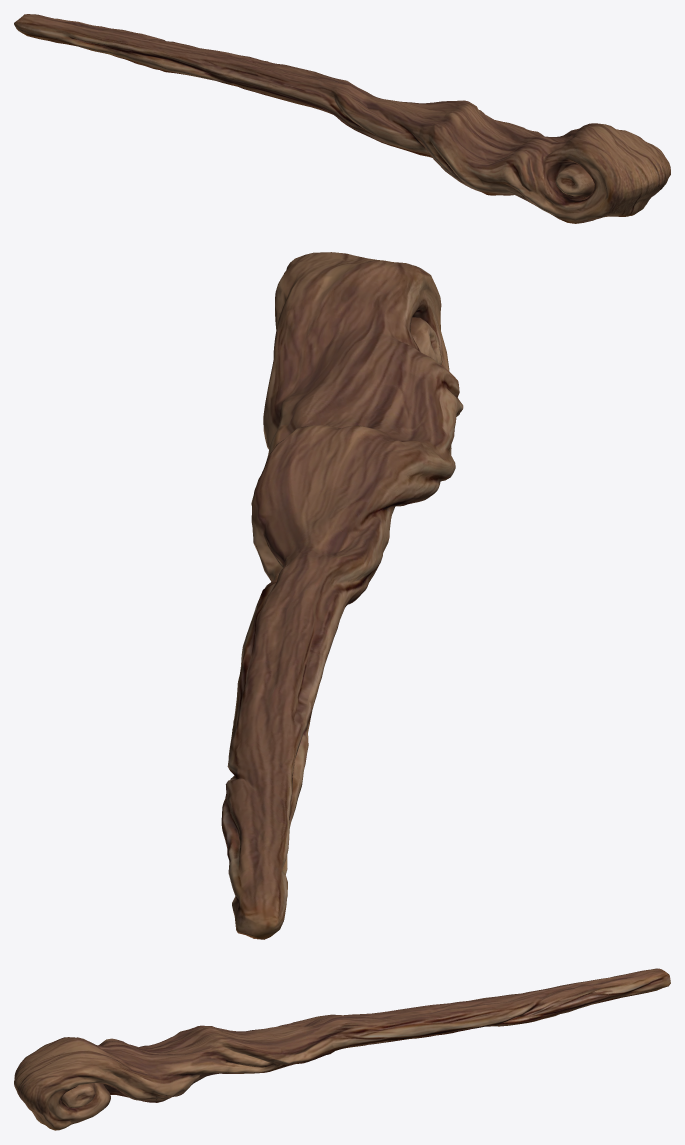
File: weapon.glb
3 views of the same model, one above another, from view 1: azimuth 30°, elevation 25°; view 2: azimuth 150°, elevation 25°; view 3: azimuth 270°, elevation 25° (orthographic). The views are drawn at different scales.
Visible parts, largest first — view 1: tripo_node_41a0d4f4-5a8c-4b46-a5ac-b01e715eec18; view 2: tripo_node_41a0d4f4-5a8c-4b46-a5ac-b01e715eec18; view 3: tripo_node_41a0d4f4-5a8c-4b46-a5ac-b01e715eec18.
Boxes of the visible parts, x1,y1,x2,y2 form: tripo_node_41a0d4f4-5a8c-4b46-a5ac-b01e715eec18: (14, 14, 670, 223); tripo_node_41a0d4f4-5a8c-4b46-a5ac-b01e715eec18: (221, 252, 463, 939); tripo_node_41a0d4f4-5a8c-4b46-a5ac-b01e715eec18: (14, 968, 670, 1130).
Bounding box in the file's own units: 0.5343 × 0.1329 × 1.
1 material, 1 textured.
